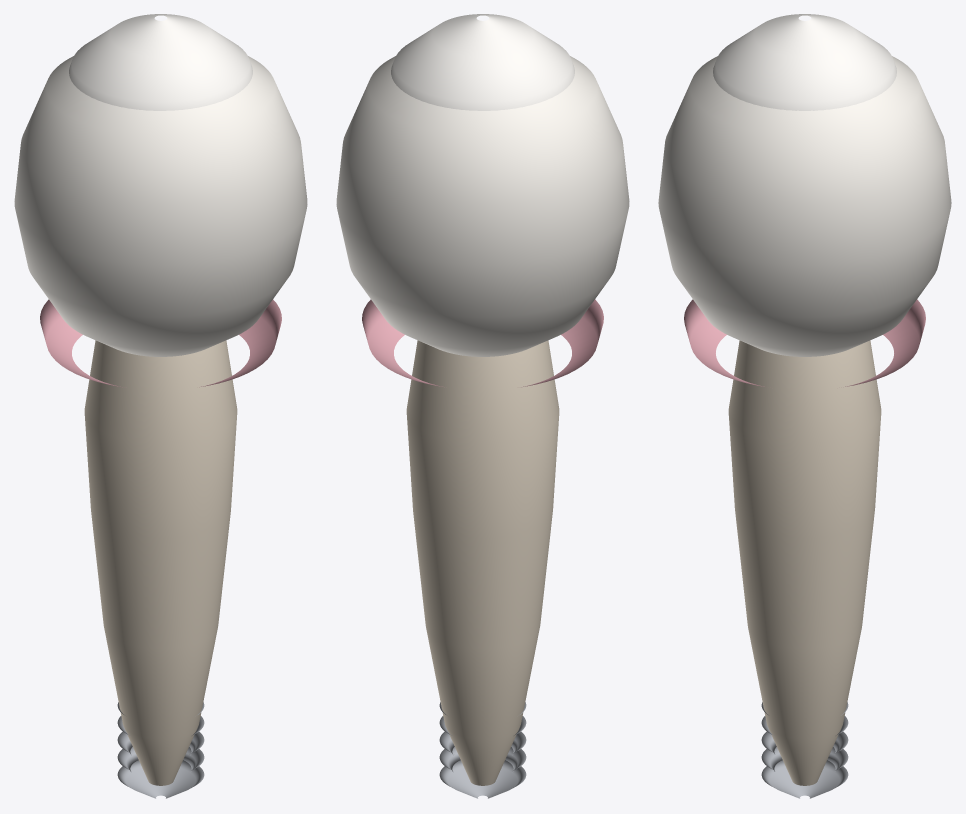
The picture shows the model from 3 angles, left to right: view 1: azimuth 30°, elevation 25°; view 2: azimuth 150°, elevation 25°; view 3: azimuth 270°, elevation 25°; orthographic projection.
Visible parts, largest first — view 1: dental_tooth_implant_cutaway; view 2: dental_tooth_implant_cutaway; view 3: dental_tooth_implant_cutaway.
Part boxes in pixels (box(x1,y1,x2,y2)): dental_tooth_implant_cutaway: box(14, 14, 307, 798); dental_tooth_implant_cutaway: box(336, 14, 629, 798); dental_tooth_implant_cutaway: box(658, 14, 951, 798).
Size of the model in its own units: 0.46 by 1.35 by 0.46.
